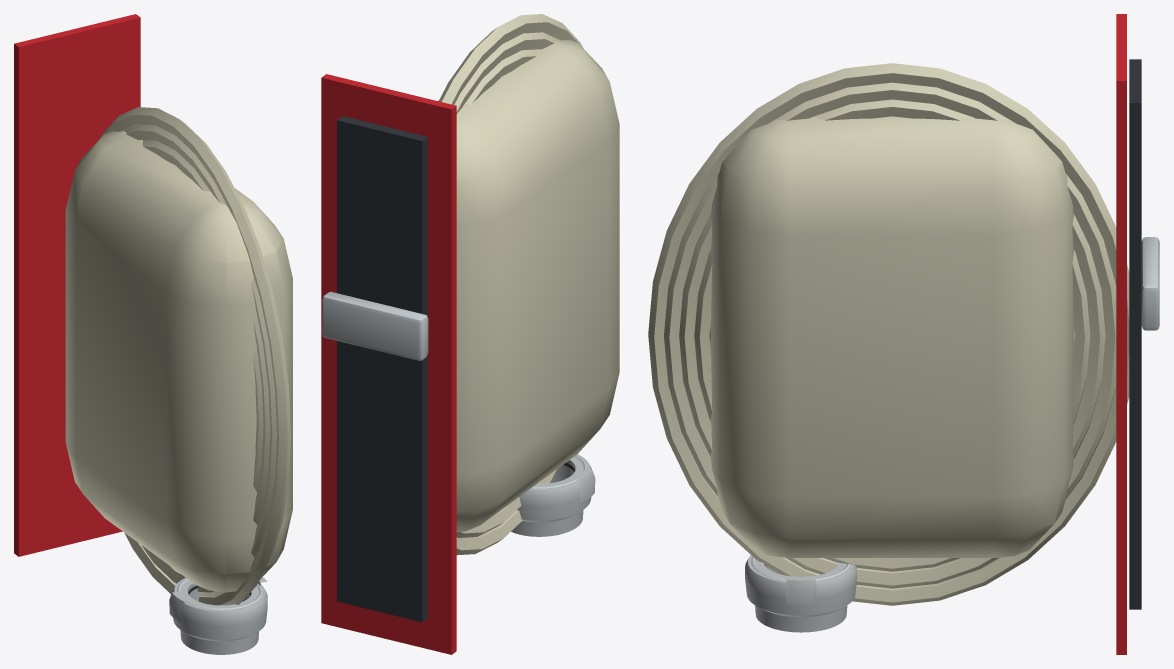
File: ob_closed_case_g6_2.glb
3 views of the same model, side by side, from view 1: azimuth 30°, elevation 25°; view 2: azimuth 150°, elevation 25°; view 3: azimuth 270°, elevation 25° (orthographic). The views are drawn at different scales.
Visible parts, largest first — view 1: ob_closed_case_g6_2; view 2: ob_closed_case_g6_2; view 3: ob_closed_case_g6_2.
Boxes of the visible parts, x1,y1,x2,y2 form: ob_closed_case_g6_2: (14,14,292,654); ob_closed_case_g6_2: (321,14,619,654); ob_closed_case_g6_2: (648,14,1159,654).
Size of the model in its own units: 0.13 by 0.52 by 0.42.
